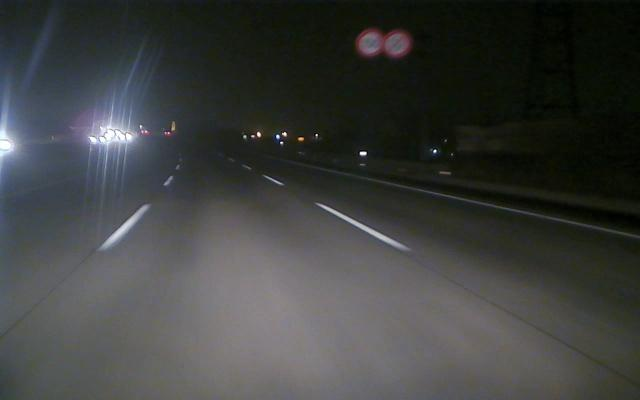lane: (368, 178, 637, 240), (262, 173, 415, 254), (100, 174, 174, 251)
